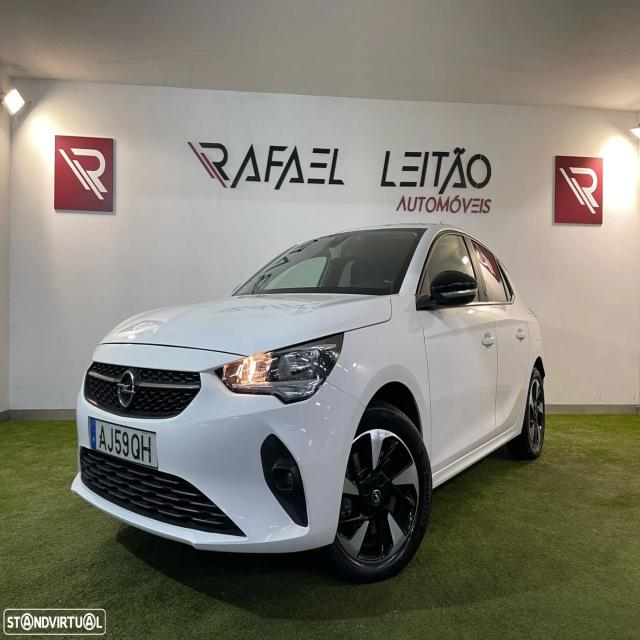portuguese-license-plates: (91, 418, 157, 468)
